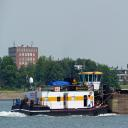tugboat: (10, 66, 110, 119)
